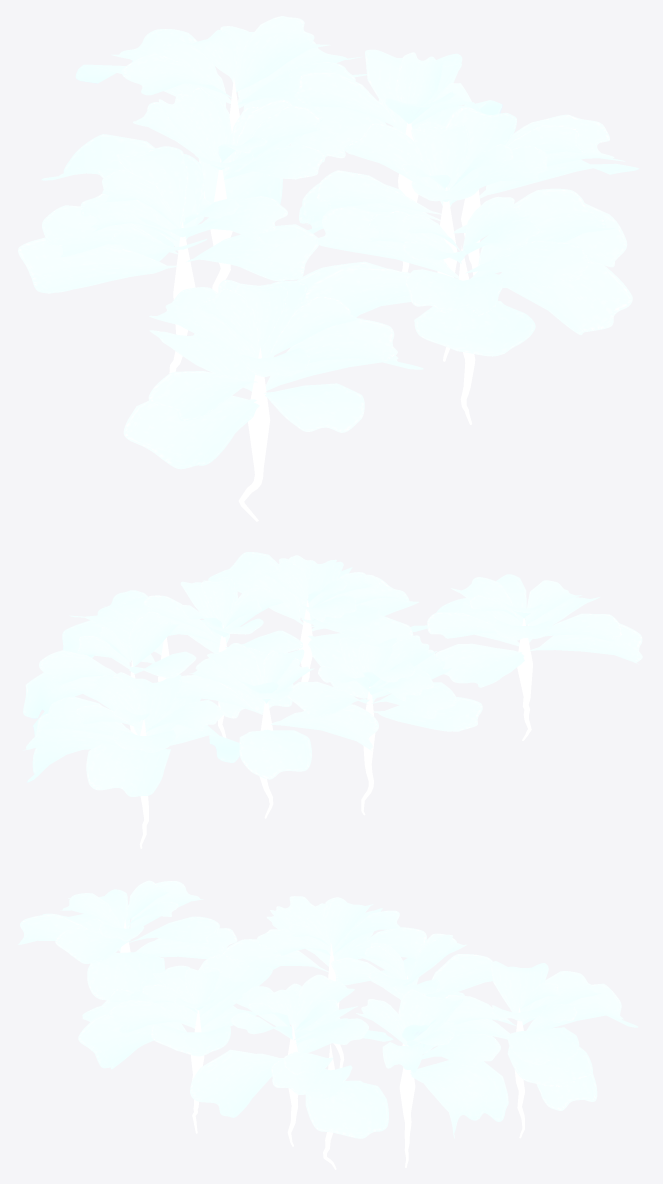
The picture shows the model from 3 angles, top to bottom: view 1: azimuth 30°, elevation 25°; view 2: azimuth 150°, elevation 25°; view 3: azimuth 270°, elevation 25°; orthographic projection. The views are drawn at different scales.
Parts seen in each view (by area): view 1: SM_FH_Water_Lettuce_05_LOD0; view 2: SM_FH_Water_Lettuce_05_LOD0; view 3: SM_FH_Water_Lettuce_05_LOD0.
Boxes of the visible parts, x1,y1,x2,y2 form: SM_FH_Water_Lettuce_05_LOD0: [18, 16, 639, 521]; SM_FH_Water_Lettuce_05_LOD0: [23, 552, 642, 848]; SM_FH_Water_Lettuce_05_LOD0: [18, 880, 637, 1169].
Size of the model in its own units: 1.51 by 0.5037 by 1.77.
Materials: 1 (1 with a texture image).
